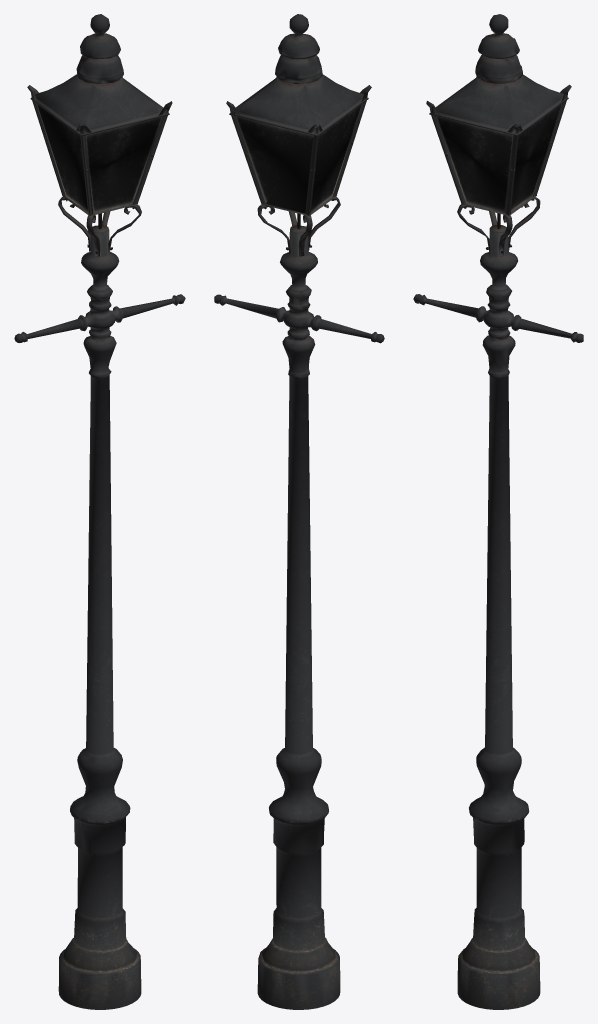
File: lamp.glb
The picture shows the model from 3 angles, left to right: view 1: azimuth 30°, elevation 25°; view 2: azimuth 150°, elevation 25°; view 3: azimuth 330°, elevation 25°; orthographic projection.
Parts seen in each view (by area): view 1: street_lamp_01; view 2: street_lamp_01; view 3: street_lamp_01.
Part boxes in pixels (x1,y1,x2,y2): street_lamp_01: [14, 14, 185, 1009]; street_lamp_01: [214, 14, 384, 1009]; street_lamp_01: [413, 14, 583, 1009].
Bounding box in the file's own units: 0.7027 × 3.87 × 0.3844.
Materials: 3 (3 with a texture image).
